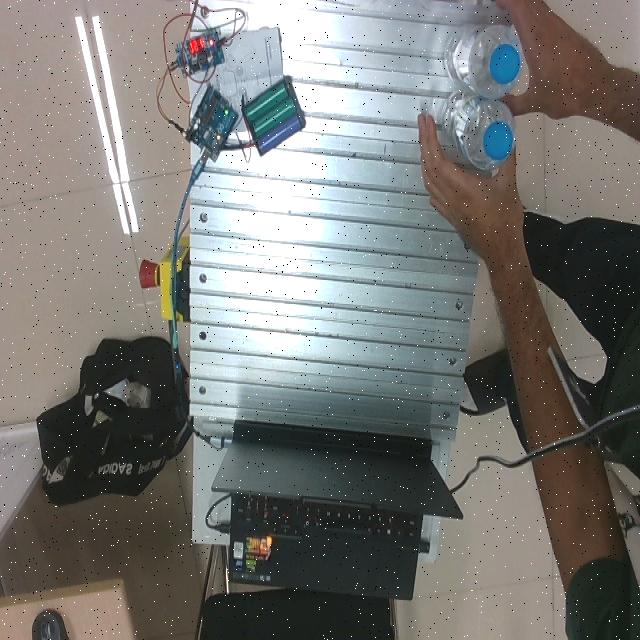lavie: (433, 92, 516, 172), (442, 24, 523, 100)
